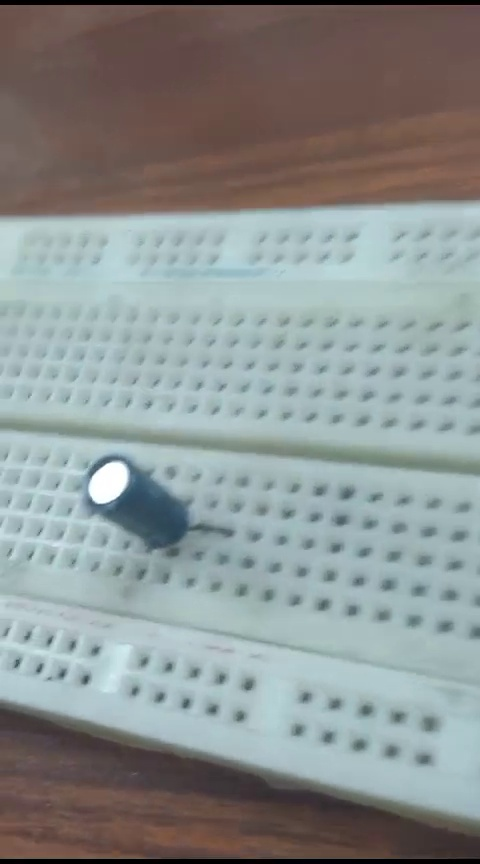capacitor: (74, 449, 238, 556)
